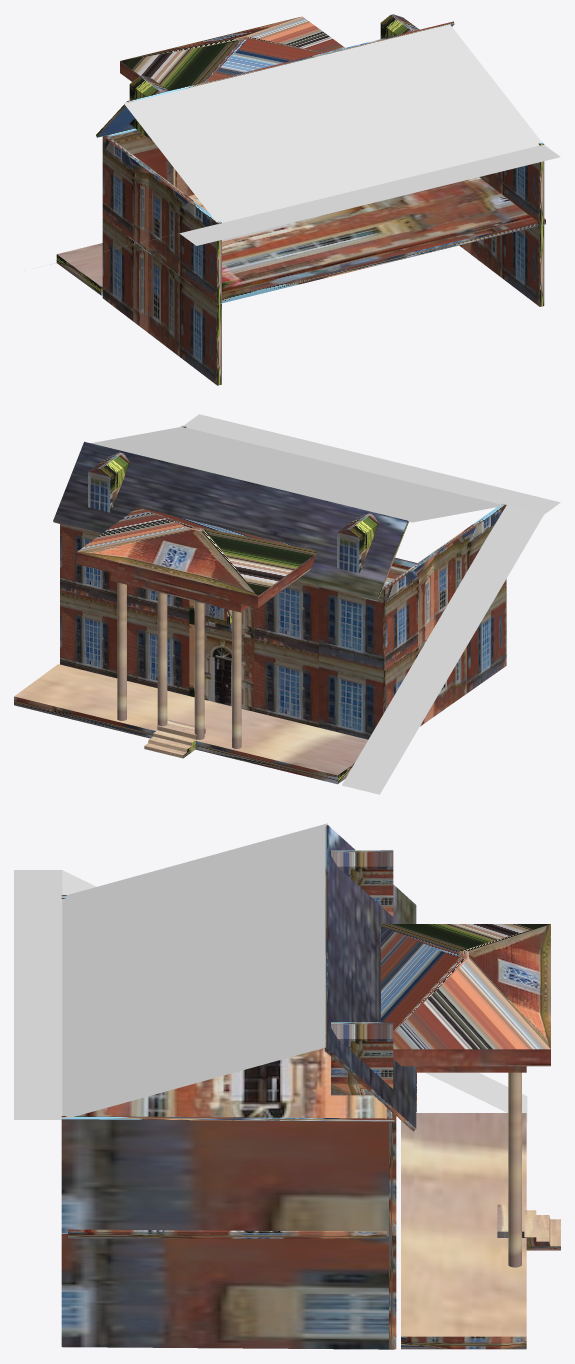
Rendered from home.glb.
3 renders of one model, top to bottom at view 1: azimuth 30°, elevation 25°; view 2: azimuth 150°, elevation 25°; view 3: azimuth 270°, elevation 25°, orthographic. The views are drawn at different scales.
Parts seen in each view (by area): view 1: Plane, Cube.013, Cube.011, Cube.010, Cube.004, Cube.009, Cube.008, Cube.001, Cube.002, Enterance, Cube.007, Cube.006; view 2: Plane, Cube, Cube.002, Cube.004, Enterance, Cube.001, Cube.010, Cube.011, Cube.006, Cube.007, Cylinder, Cylinder.002 (+4 smaller); view 3: Plane, Cube.008, Cube.009, Enterance, Cube.004, Cube.013, Cube.002, Cube.006, Cylinder.003, Cube.007, Stairs, Cube.001 (+1 smaller).
Part boxes in pixels (x1,y1,x2,y2): Plane: [50, 24, 560, 264]; Cube.013: [188, 177, 545, 303]; Cube.011: [102, 217, 221, 385]; Cube.010: [102, 135, 221, 304]; Cube.004: [120, 16, 344, 90]; Cube.009: [459, 224, 544, 306]; Cube.008: [479, 142, 544, 225]; Cube.001: [107, 128, 194, 196]; Cube.002: [96, 21, 454, 137]; Enterance: [56, 243, 102, 295]; Cube.007: [129, 75, 168, 140]; Cube.006: [380, 14, 419, 38]; Plane: [91, 414, 560, 794]; Cube: [60, 591, 384, 739]; Cube.002: [53, 441, 408, 601]; Cube.004: [76, 508, 316, 612]; Enterance: [14, 664, 367, 784]; Cube.001: [60, 524, 384, 670]; Cube.010: [382, 503, 506, 670]; Cube.011: [384, 585, 506, 726]; Cube.006: [88, 452, 129, 512]; Cube.007: [337, 513, 378, 573]; Cylinder: [194, 601, 204, 739]; Cylinder.002: [157, 592, 167, 726]; Plane: [14, 823, 527, 1122]; Cube.008: [61, 1116, 394, 1235]; Cube.009: [61, 1233, 394, 1349]; Enterance: [401, 1113, 526, 1349]; Cube.004: [381, 924, 550, 1072]; Cube.013: [68, 1048, 386, 1238]; Cube.002: [324, 825, 416, 1131]; Cube.006: [331, 1022, 393, 1095]; Cylinder.003: [508, 1072, 521, 1267]; Cube.007: [331, 850, 393, 916]; Stairs: [497, 1204, 560, 1250]; Cube.001: [389, 1110, 396, 1235].
Size of the model in its own units: 19.19 by 10.66 by 17.54.
Materials: 1 (1 with a texture image).
